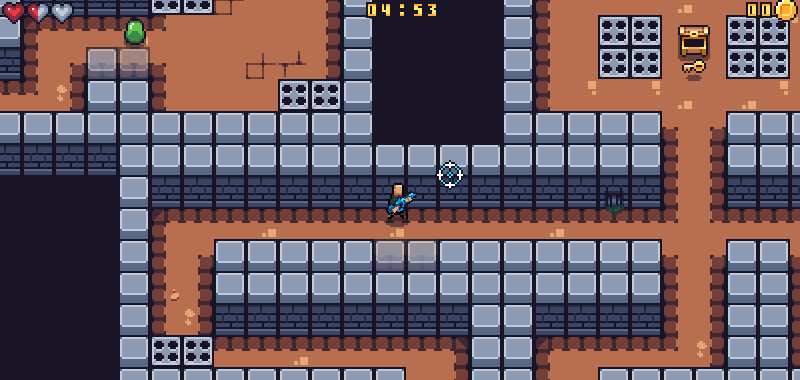enemy_slug: (123, 16, 147, 49)
key: (679, 56, 707, 74)
trap_off: (599, 15, 663, 76), (727, 16, 787, 76), (149, 336, 212, 369), (278, 80, 342, 111)
treasury_open: (676, 22, 712, 60)
